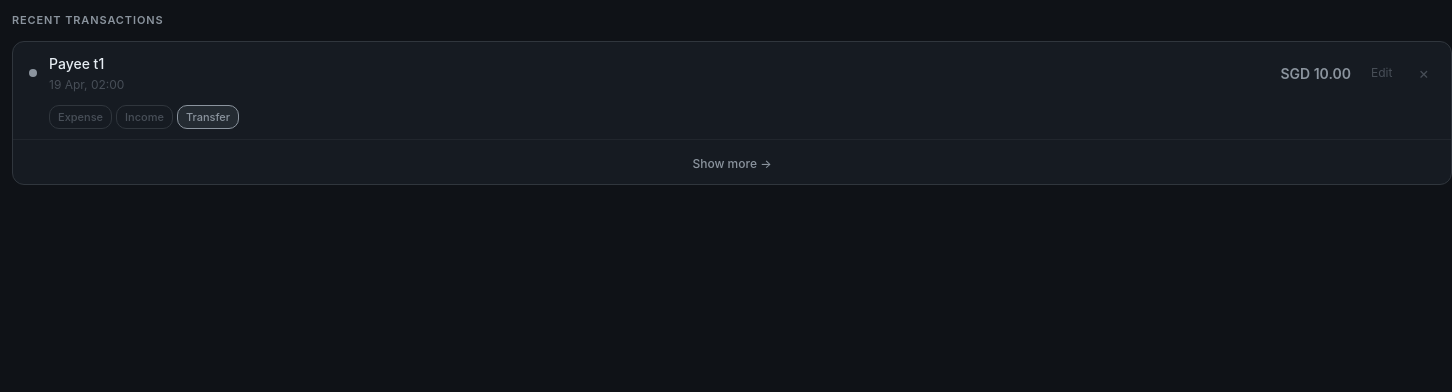
Scenario: RecentTransactions — BUG-039: transfer type shows destination account picker › shows To Account picker in edit form for a transfer transaction
The width and height of the screenshot is (1452, 392).
Expected: the text "Payee t1" is shown, [49,52,104,74]
Click the button "Edit" at (1382, 73), box [1363,64,1400,82]
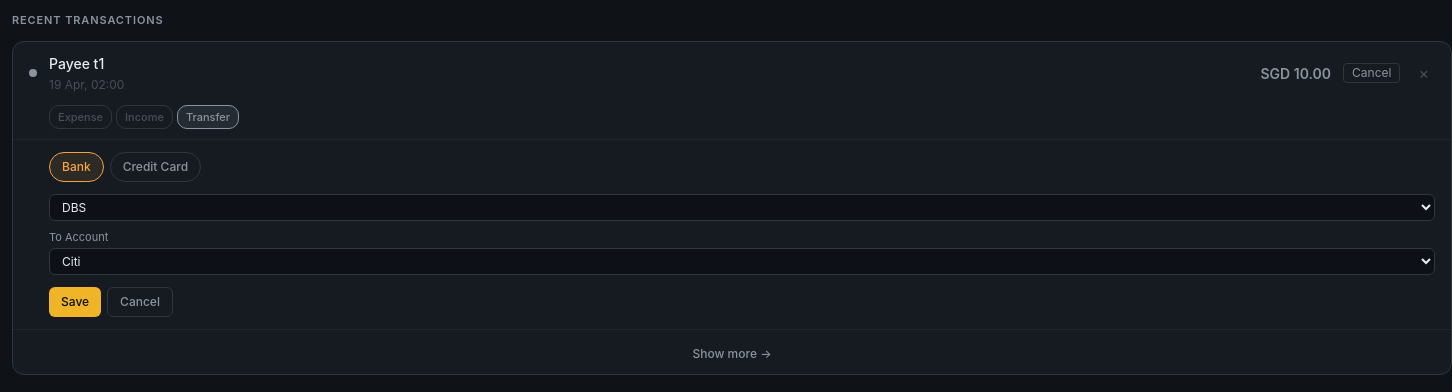
Expected: the button "Save" is shown, [49,287,101,317]
Expected: the text "To Account" is shown, [49,230,108,244]
